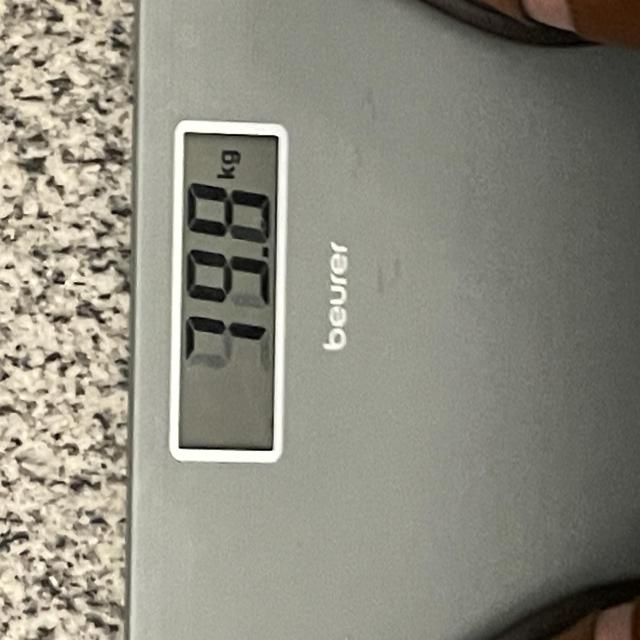ws: (174, 124, 287, 463)
